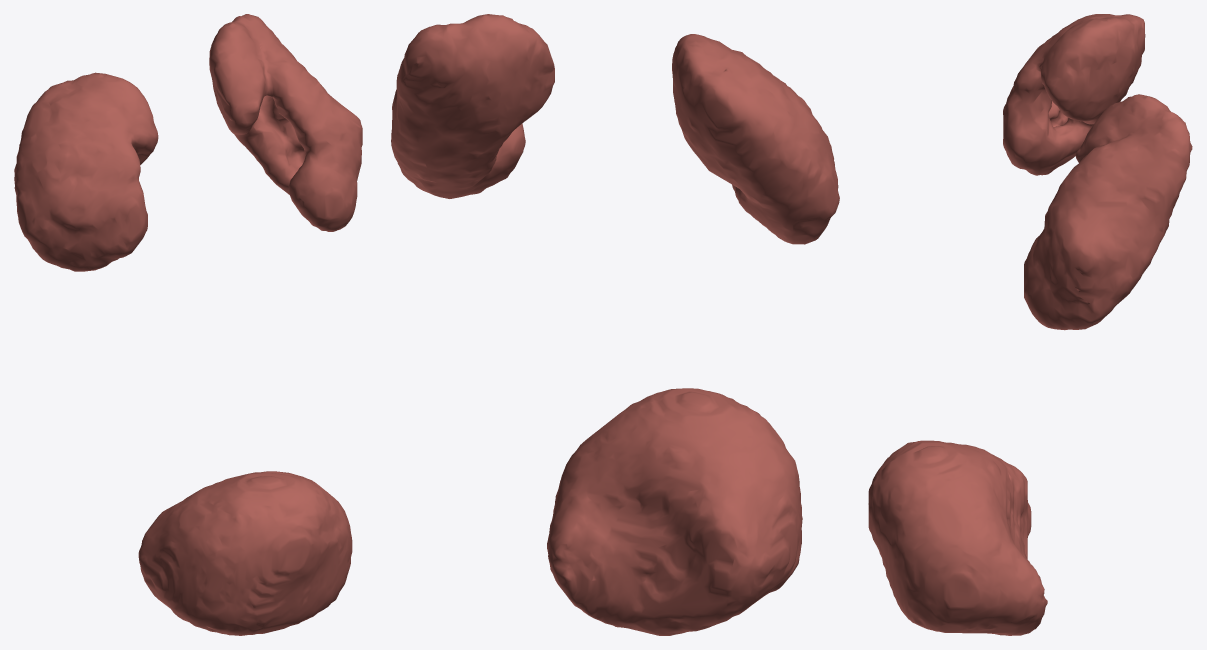
The model's file is tsd_s0196_older_adult_female.urinary.LOD1.glb.
3 renders of one model, left to right at view 1: azimuth 30°, elevation 25°; view 2: azimuth 150°, elevation 25°; view 3: azimuth 270°, elevation 25°, orthographic. The views are drawn at different scales.
Visible parts, largest first — view 1: TSD_S0196.OLDER_ADULT.FEMALE.URINARY.URINARY_BLADDER, TSD_S0196.OLDER_ADULT.FEMALE.URINARY.KIDNEY.R, TSD_S0196.OLDER_ADULT.FEMALE.URINARY.KIDNEY.L; view 2: TSD_S0196.OLDER_ADULT.FEMALE.URINARY.URINARY_BLADDER, TSD_S0196.OLDER_ADULT.FEMALE.URINARY.KIDNEY.L, TSD_S0196.OLDER_ADULT.FEMALE.URINARY.KIDNEY.R; view 3: TSD_S0196.OLDER_ADULT.FEMALE.URINARY.URINARY_BLADDER, TSD_S0196.OLDER_ADULT.FEMALE.URINARY.KIDNEY.L, TSD_S0196.OLDER_ADULT.FEMALE.URINARY.KIDNEY.R.
Boxes of the visible parts, bbox=[...] form: TSD_S0196.OLDER_ADULT.FEMALE.URINARY.URINARY_BLADDER: bbox=[138, 471, 352, 635]; TSD_S0196.OLDER_ADULT.FEMALE.URINARY.KIDNEY.R: bbox=[14, 72, 158, 271]; TSD_S0196.OLDER_ADULT.FEMALE.URINARY.KIDNEY.L: bbox=[209, 14, 362, 231]; TSD_S0196.OLDER_ADULT.FEMALE.URINARY.URINARY_BLADDER: bbox=[547, 388, 802, 635]; TSD_S0196.OLDER_ADULT.FEMALE.URINARY.KIDNEY.L: bbox=[391, 14, 554, 198]; TSD_S0196.OLDER_ADULT.FEMALE.URINARY.KIDNEY.R: bbox=[672, 34, 839, 244]; TSD_S0196.OLDER_ADULT.FEMALE.URINARY.URINARY_BLADDER: bbox=[868, 440, 1047, 635]; TSD_S0196.OLDER_ADULT.FEMALE.URINARY.KIDNEY.L: bbox=[1024, 94, 1192, 330]; TSD_S0196.OLDER_ADULT.FEMALE.URINARY.KIDNEY.R: bbox=[1003, 14, 1145, 175].
Bounding box in the file's own units: 0.1833 × 0.2714 × 0.1408.
